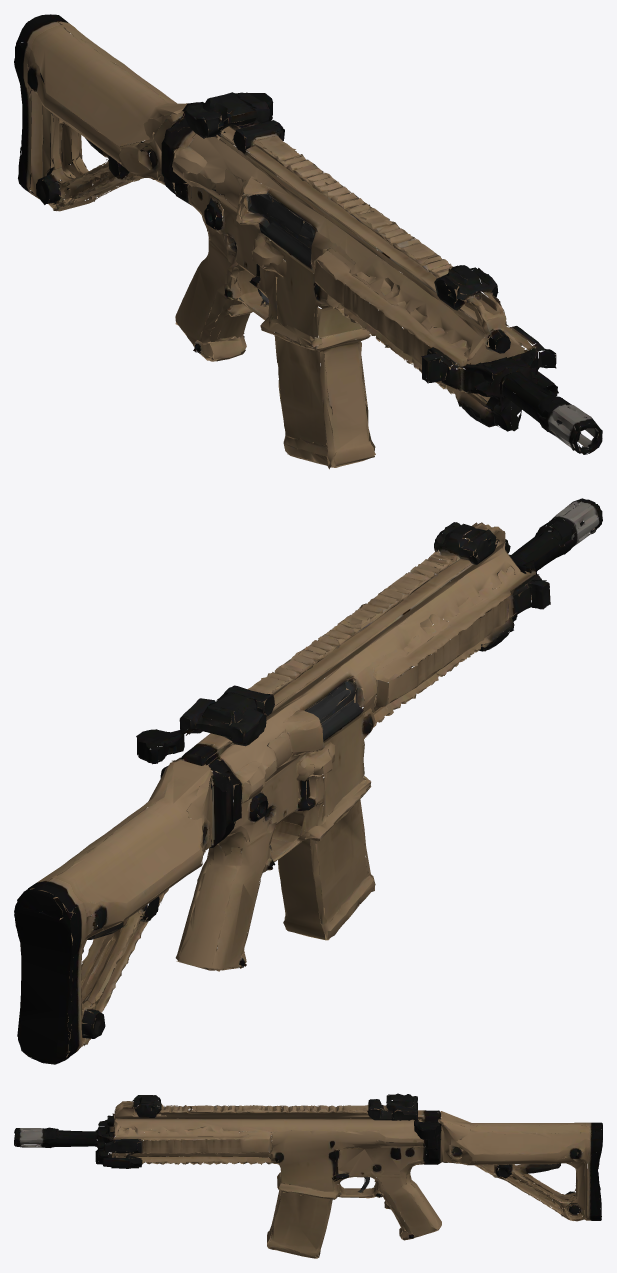
Rendered from scar.glb.
3 views of the same model, one above another, from view 1: azimuth 30°, elevation 25°; view 2: azimuth 150°, elevation 25°; view 3: azimuth 270°, elevation 25° (orthographic). The views are drawn at different scales.
Parts seen in each view (by area): view 1: scar; view 2: scar; view 3: scar.
Boxes of the visible parts, x1,y1,x2,y2 form: scar: (14, 14, 602, 469); scar: (14, 498, 602, 1064); scar: (14, 1093, 602, 1258).
Bounding box in the file's own units: 0.1192 × 0.2617 × 0.89.
Materials: 1 (1 with a texture image).
